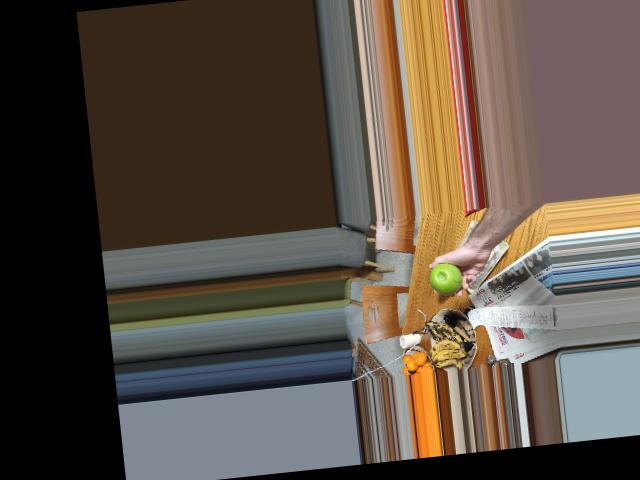apple: (423, 260, 466, 297)
